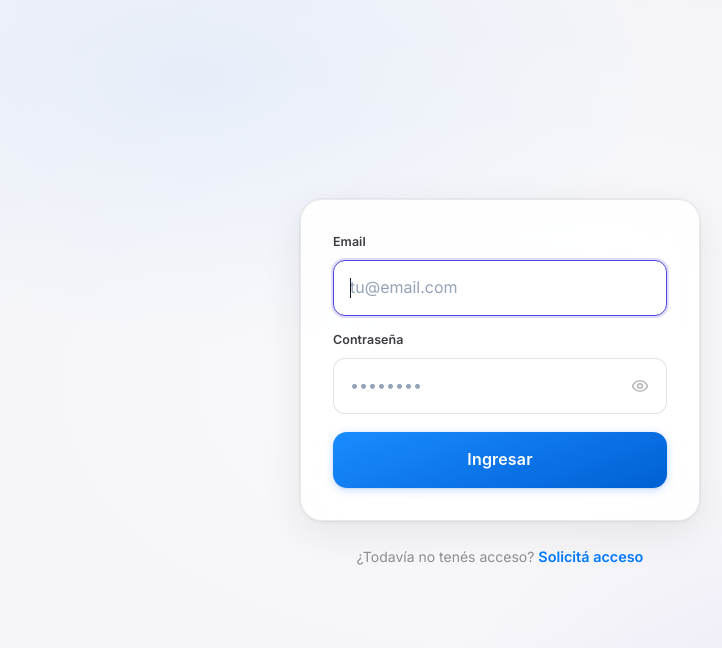
Test: PRE-BETA-2D · PortalLogin › U1. sin confirmar → mensaje propio + reenvío al email tipeado
In the field with placeholder "tu@email.com": (500, 288) [333, 260, 667, 316], type "mayorista-qa@example.test"
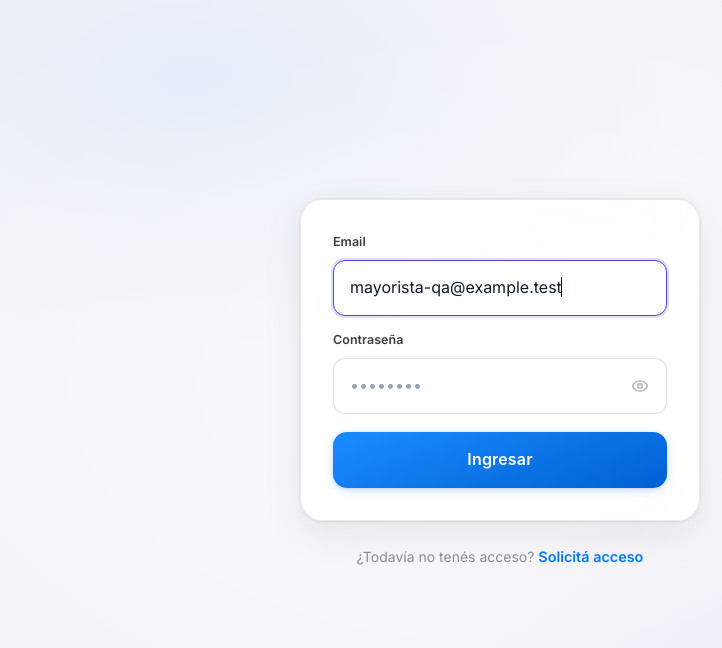
In the password field with placeholder "••••••••": (500, 386) [333, 358, 667, 414], type "segura-123"
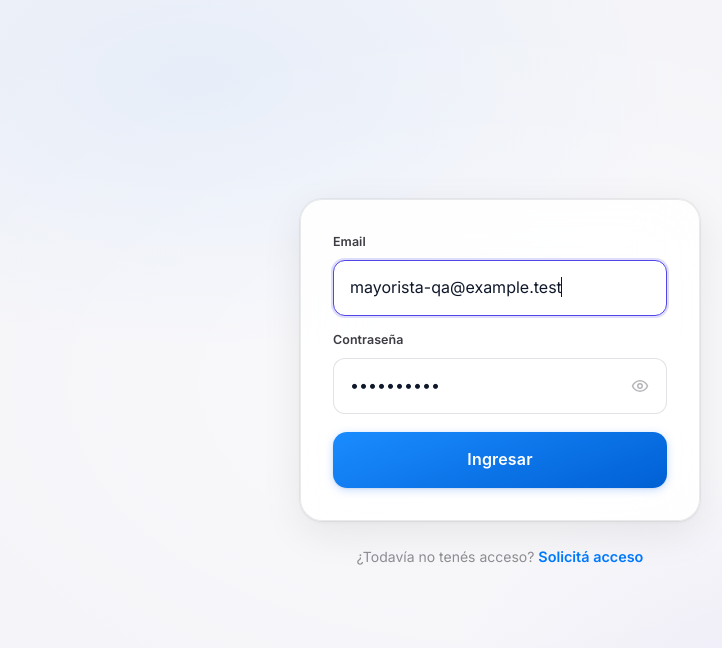
Submit the form, box [333, 232, 667, 488]
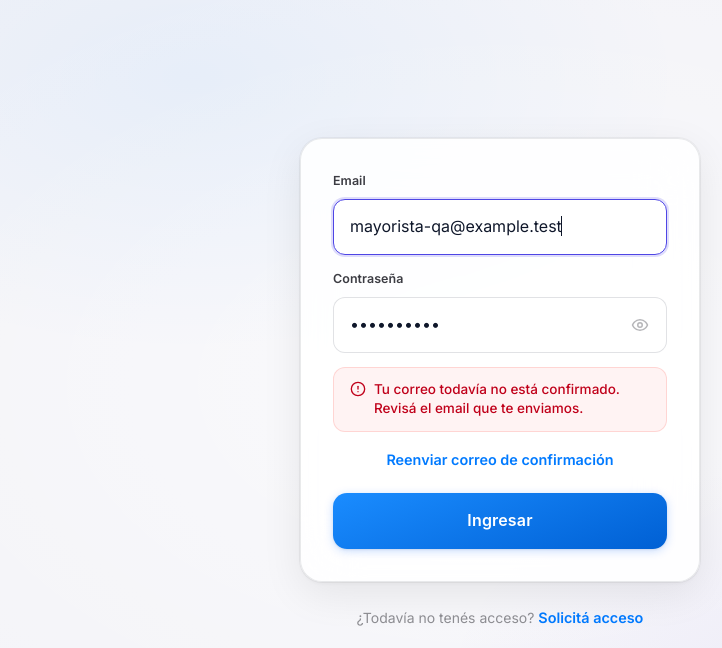
Expected: the text with test id "portal-login-error" shows "todavía no está confirmado", [374, 380, 620, 416]
Click the button with test id "portal-login-resend": (500, 460) [382, 446, 618, 475]
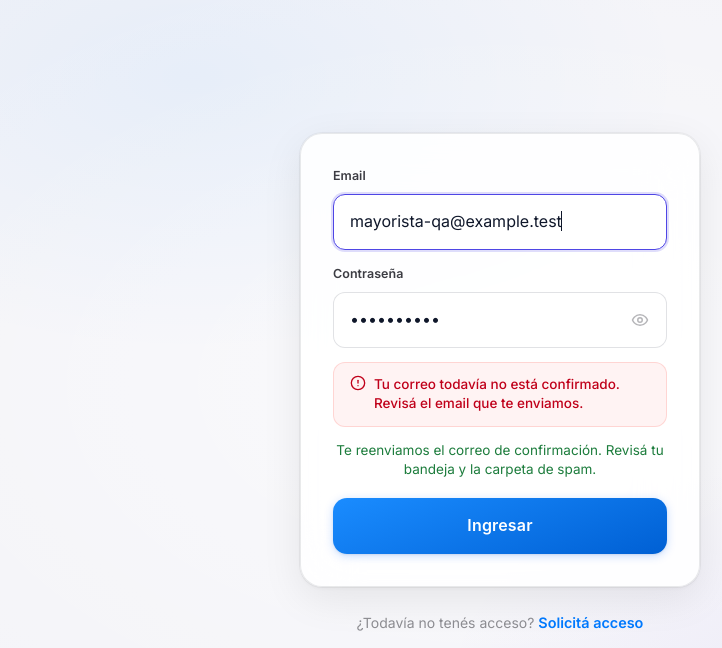
Expected: the text with test id "portal-login-resend-sent" is shown, [336, 442, 664, 477]
Expected: the button with test id "portal-login-resend" is gone
